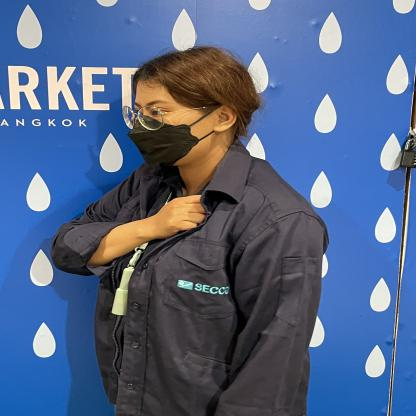Sadness: (46, 176, 249, 283)
